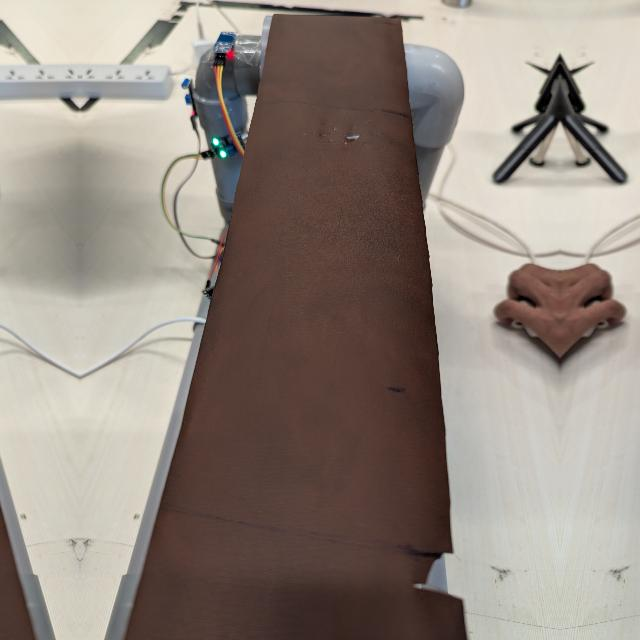belt_crack: (294, 101, 387, 155)
belt_tear: (409, 542, 465, 605)
